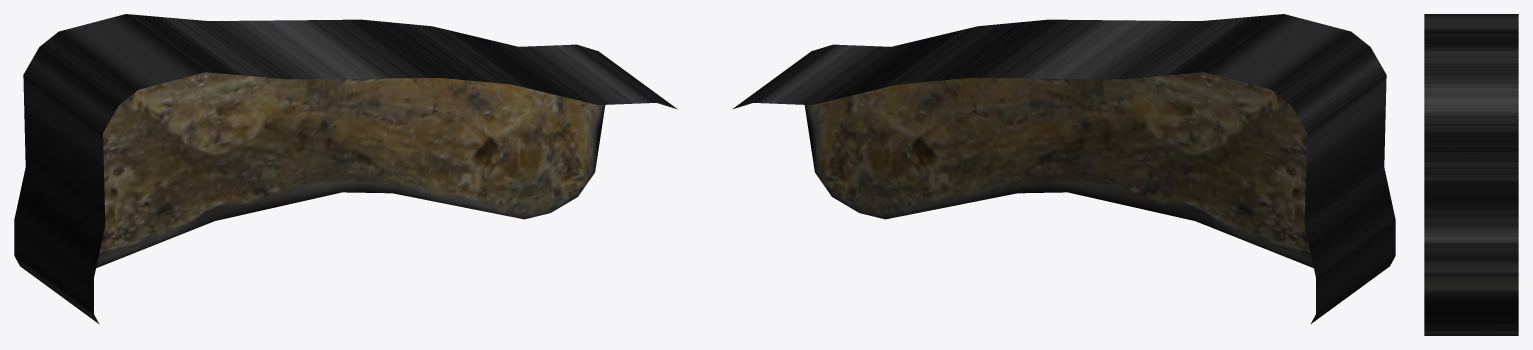
3 renders of one model, left to right at view 1: azimuth 30°, elevation 25°; view 2: azimuth 150°, elevation 25°; view 3: azimuth 270°, elevation 25°, orthographic. The views are drawn at different scales.
Visible parts, largest first — view 1: world; view 2: world; view 3: world.
Part boxes in pixels (x1,y1,x2,y2): world: [14, 14, 677, 324]; world: [732, 14, 1395, 324]; world: [1424, 14, 1518, 335].
Bounding box in the file's own units: 0.6922 × 0.3355 × 0.16.
1 material, 1 textured.
